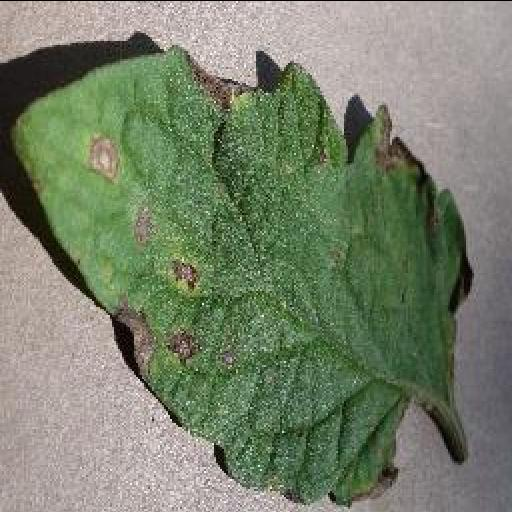disease_tomato: (8, 45, 470, 501)
